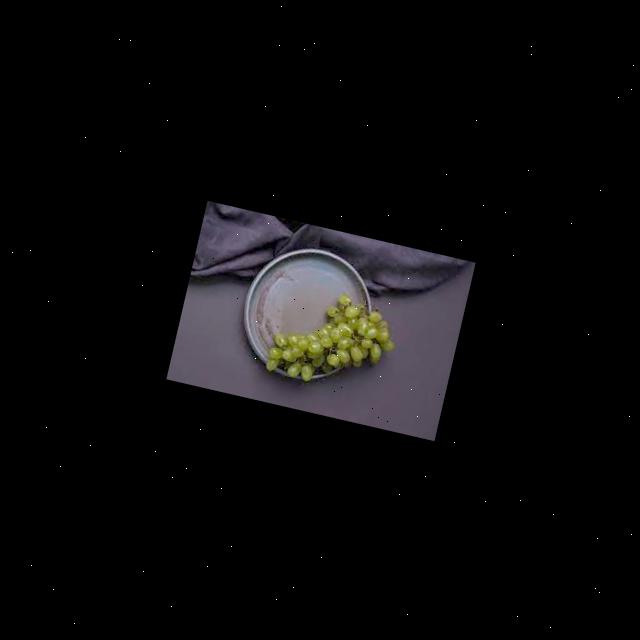grape: (263, 278, 404, 398)
